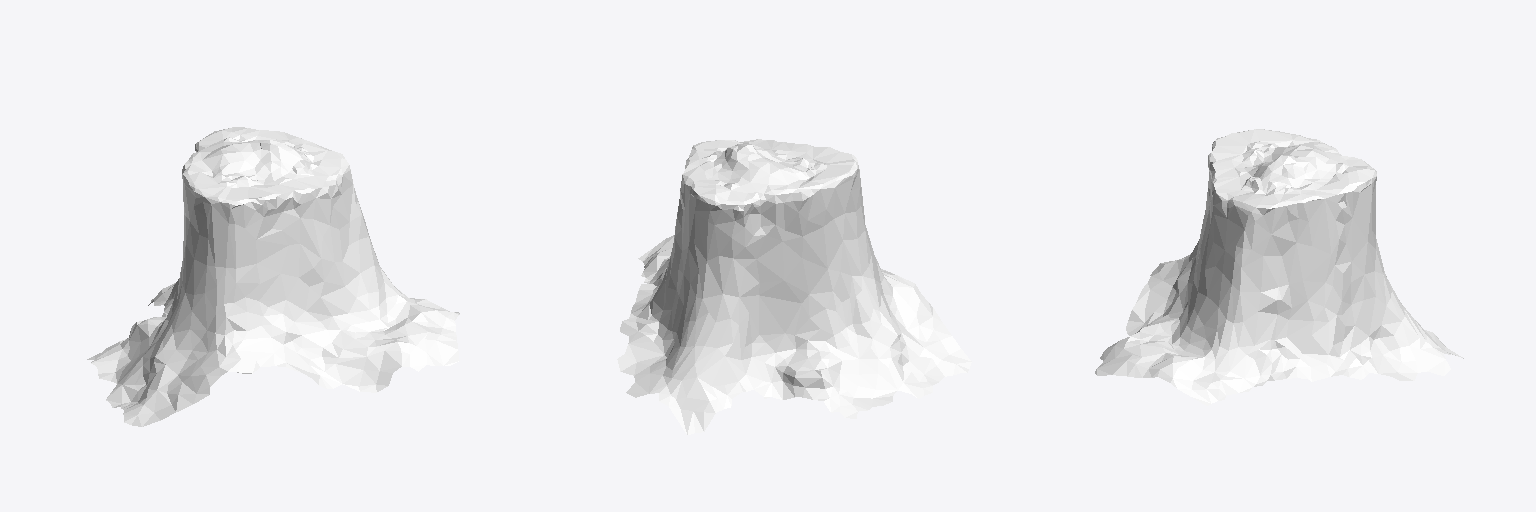
The model's file is kand.obj.
The picture shows the model from 3 angles: view 1: azimuth 30°, elevation 25°; view 2: azimuth 150°, elevation 25°; view 3: azimuth 270°, elevation 25°; orthographic projection.
Parts seen in each view (by area): view 1: kand; view 2: kand; view 3: kand.
Part boxes in pixels (x1,y1,x2,y2): kand: (87,127,459,426); kand: (617,139,971,434); kand: (1095,129,1463,405).
Bounding box in the file's own units: 4.29 × 2.69 × 4.15.